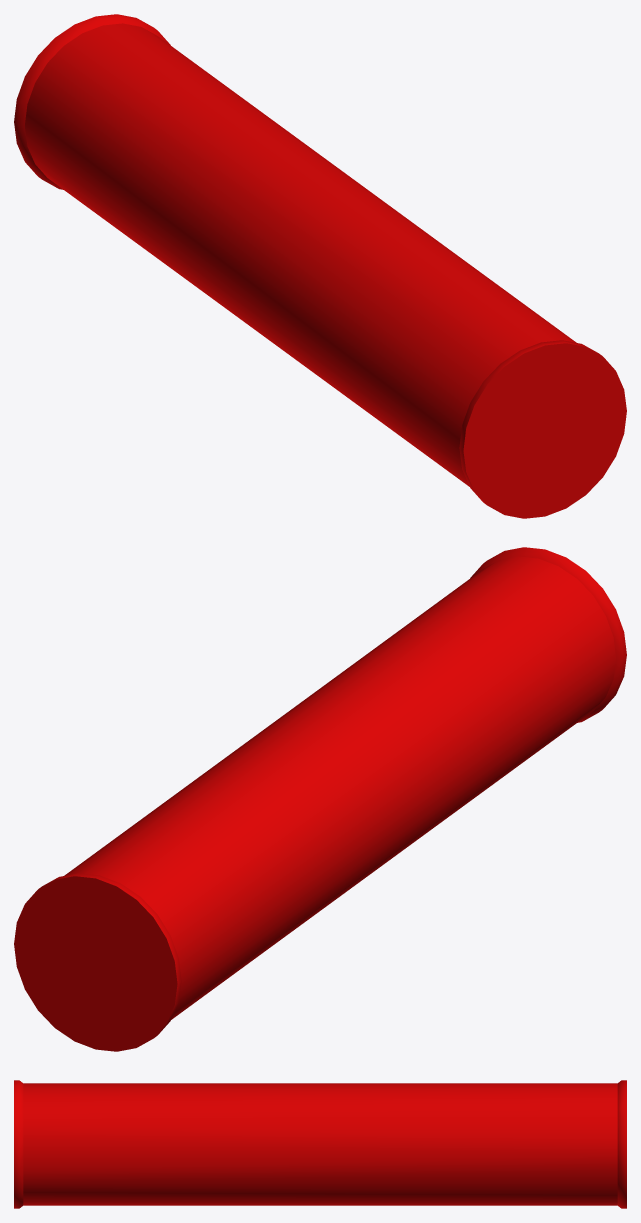
3 renders of one model, top to bottom at view 1: azimuth 30°, elevation 25°; view 2: azimuth 150°, elevation 25°; view 3: azimuth 270°, elevation 25°, orthographic. The views are drawn at different scales.
Parts seen in each view (by area): view 1: Mesh; view 2: Mesh; view 3: Mesh.
Boxes of the visible parts, bbox=[...] form: Mesh: bbox=[14, 14, 626, 518]; Mesh: bbox=[14, 547, 626, 1051]; Mesh: bbox=[14, 1080, 626, 1208].
Size of the model in its own units: 0.4202 by 0.4202 by 2.
